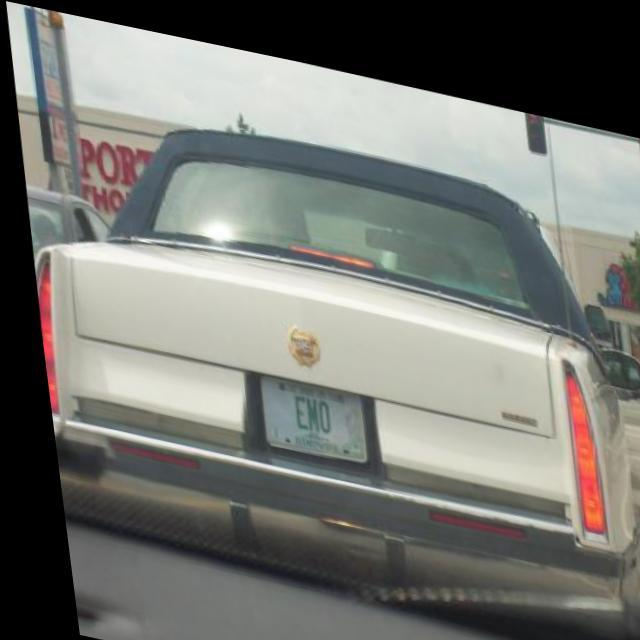license_plate: (246, 360, 360, 451)
